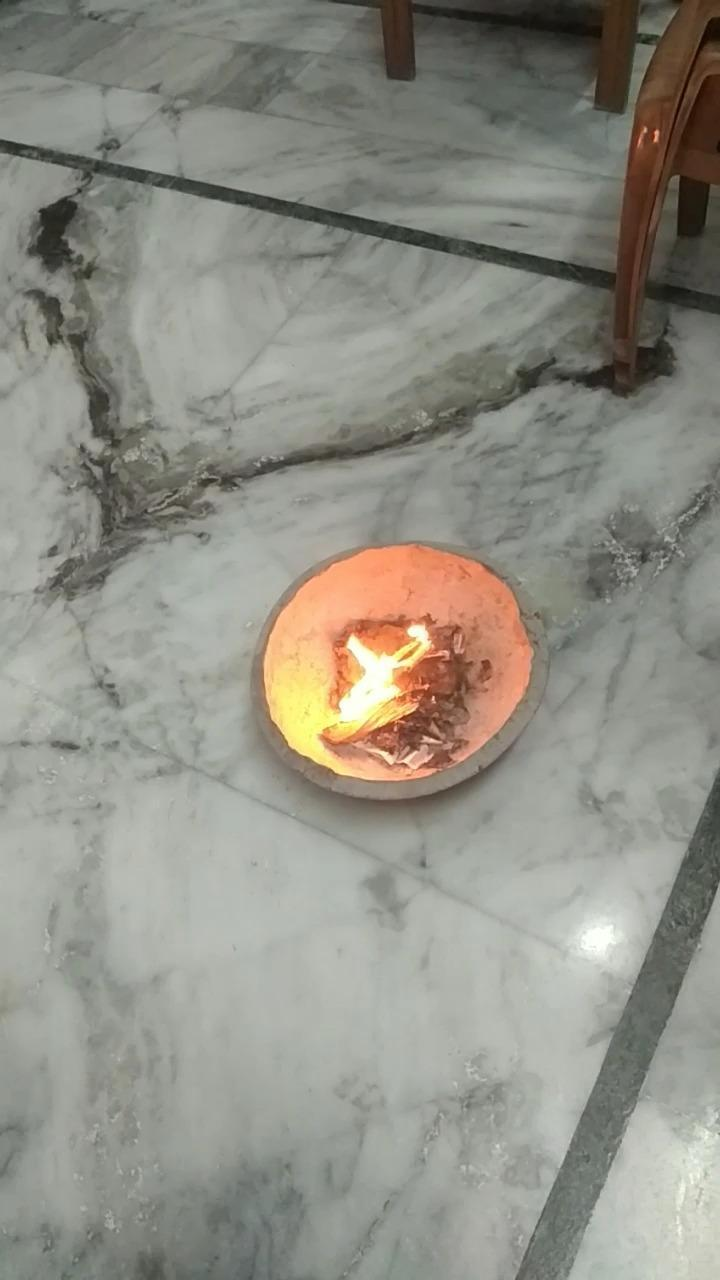fire: (325, 614, 440, 734)
